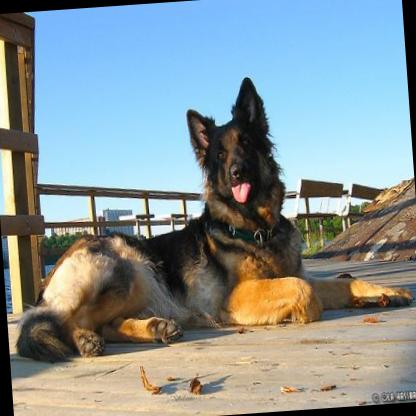German_shepherd: (0, 61, 416, 368)
